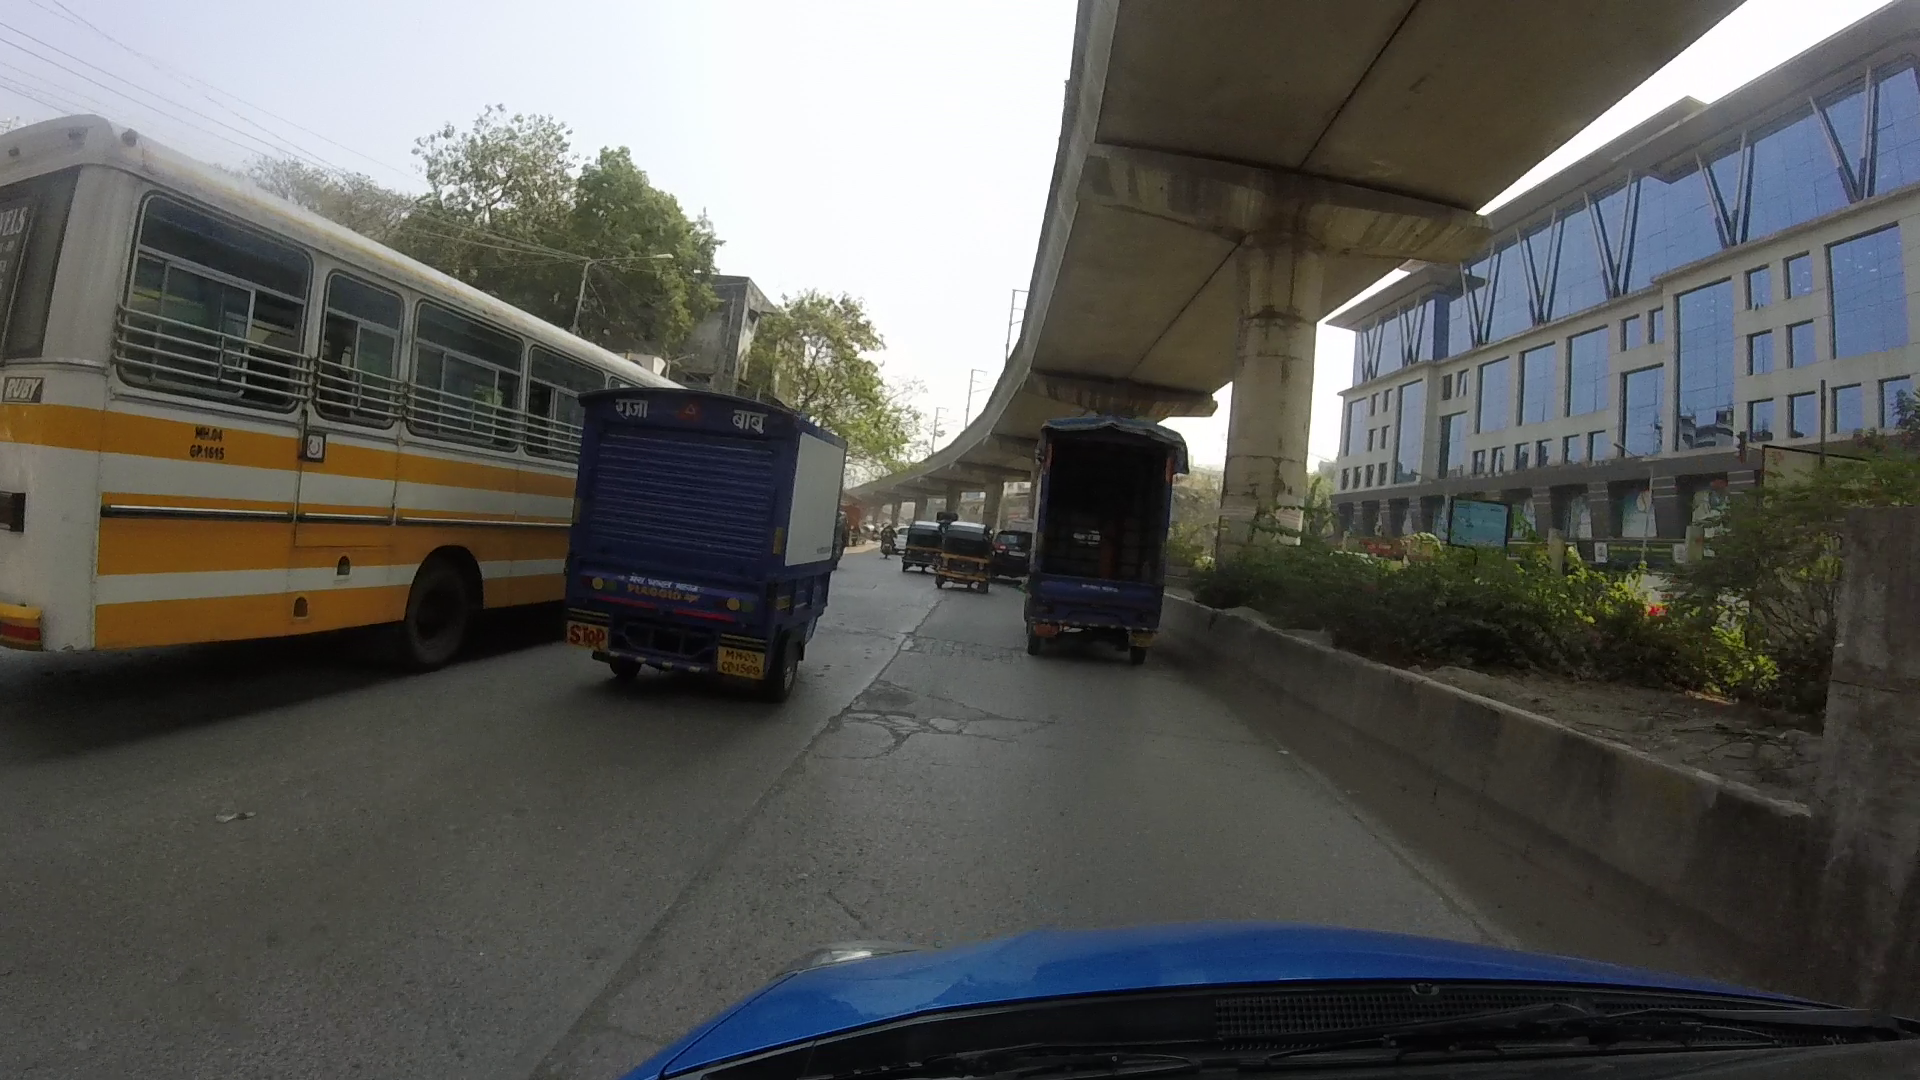bus: (5, 119, 655, 659)
rickshaw: (938, 527, 990, 589)
truck: (589, 382, 840, 688), (1022, 404, 1189, 673)
